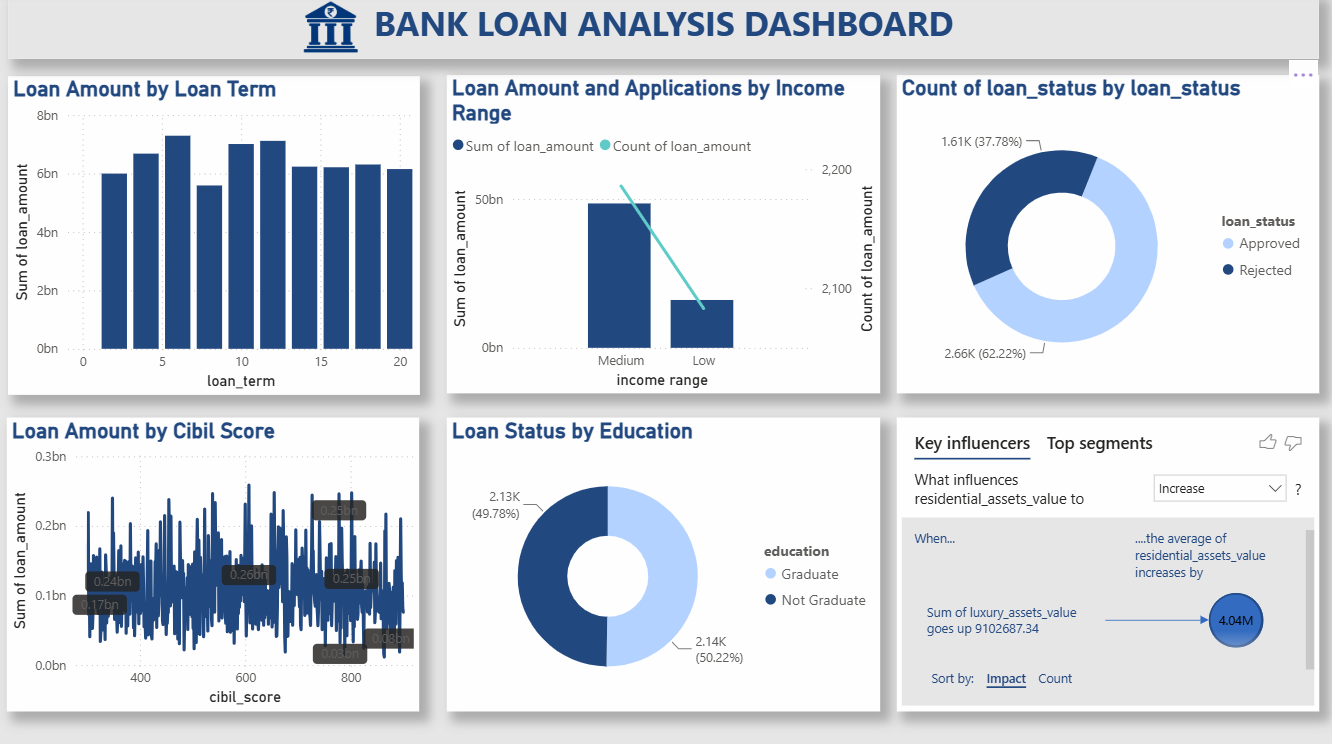

The dashboard page shown, as its layout file describes it:
{"tool":"powerbi","page":{"name":"Page 2","canvas":[1280,720],"ordinal":1},"visuals":[{"type":"stackedAreaChart","title":"Loan Amount by Cibil Score","fields":{"Category":["cleaned_loan_dataset.cibil_score"],"Y":["Sum(cleaned_loan_dataset.loan_amount)"]},"box":[13.1,402.4,392.9,279.8],"z":0},{"type":"clusteredColumnChart","title":"Loan Amount by Loan Term","fields":{"Category":["cleaned_loan_dataset.loan_term"],"Y":["Sum(cleaned_loan_dataset.loan_amount)"]},"box":[14.3,77.4,391.7,303.6],"z":1000},{"type":"donutChart","title":" Loan Status by Education","fields":{"Category":["cleaned_loan_dataset.education"],"Y":["CountNonNull(cleaned_loan_dataset.loan_status)"]},"box":[432.1,402.4,413.1,279.8],"z":2000},{"type":"lineClusteredColumnComboChart","title":"Loan Amount and Applications by Income Range","fields":{"Category":["cleaned_loan_dataset.income range"],"Y":["Sum(cleaned_loan_dataset.loan_amount)"],"Y2":["CountNonNull(cleaned_loan_dataset.loan_amount)"]},"box":[432.1,76.2,413.1,303.6],"z":3000},{"type":"donutChart","fields":{"Category":["cleaned_loan_dataset.loan_status"],"Y":["CountNonNull(cleaned_loan_dataset.loan_status)"]},"box":[860.7,76.2,402.4,303.6],"z":4000},{"type":"keyDriversVisual","fields":{"Target":["cleaned_loan_dataset.residential_assets_value"],"ExplainBy":["Sum(cleaned_loan_dataset.no_of_dependents)","Sum(cleaned_loan_dataset.luxury_assets_value)"]},"box":[860.7,402.4,402.4,279.8],"z":5000},{"type":"textbox","box":[14.3,0,1248.8,60.7],"z":6000},{"type":"image","box":[236.5,0,169.3,61.2],"z":7000}]}

Visuals, with their boxes in screenshot pixels (x1, y1, x2, y2), scaled from the page's 1280x720 canvas onto the 1332x744 screenshot:
"Loan Amount by Cibil Score" stackedAreaChart: 14 416 422 705
"Loan Amount by Loan Term" clusteredColumnChart: 15 80 422 394
" Loan Status by Education" donutChart: 450 416 880 705
"Loan Amount and Applications by Income Range" lineClusteredColumnComboChart: 450 79 880 392
donutChart - cleaned_loan_dataset.loan_status x CountNonNull(cleaned_loan_dataset.loan_status): 896 79 1314 392
keyDriversVisual - cleaned_loan_dataset.residential_assets_value x Sum(cleaned_loan_dataset.no_of_dependents): 896 416 1314 705
textbox: 15 0 1314 63
image: 246 0 422 63
